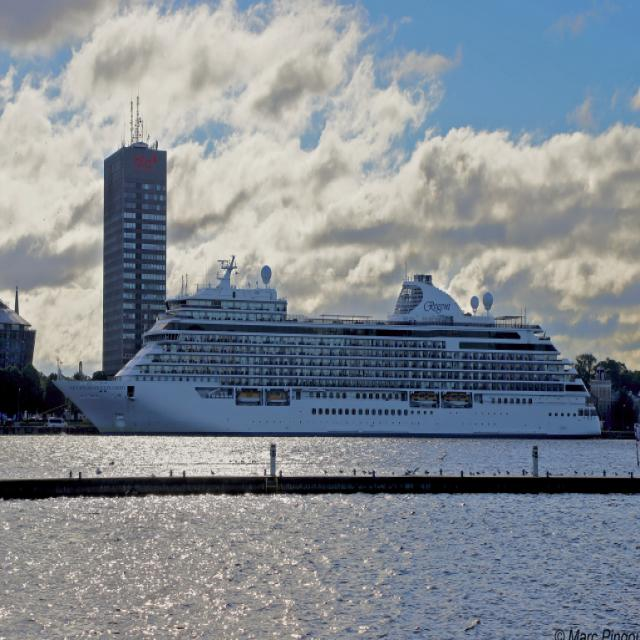cruises: (52, 253, 607, 448)
